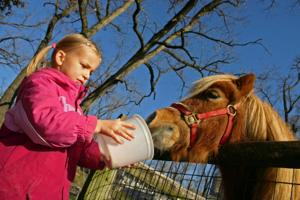person: (2, 33, 134, 200)
